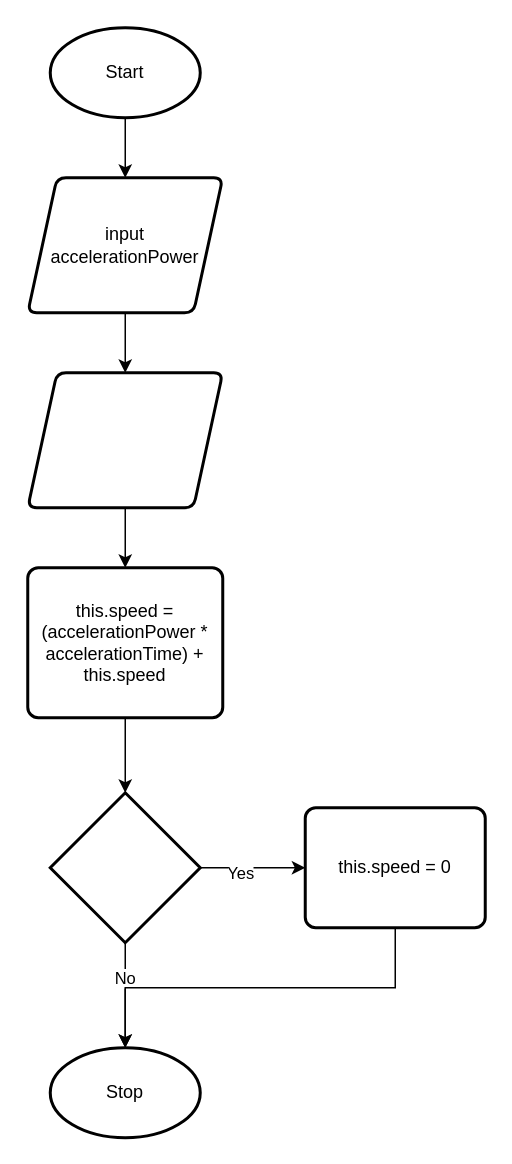
This 512x1164 diagram has some shape labels left out. The shapes that lost their labels are listed below. From the top down, each one's centre as x and y in pixels, then its label:
point (125, 439): input accelerationTime
point (124, 867): if this.speed > maxSpeed
